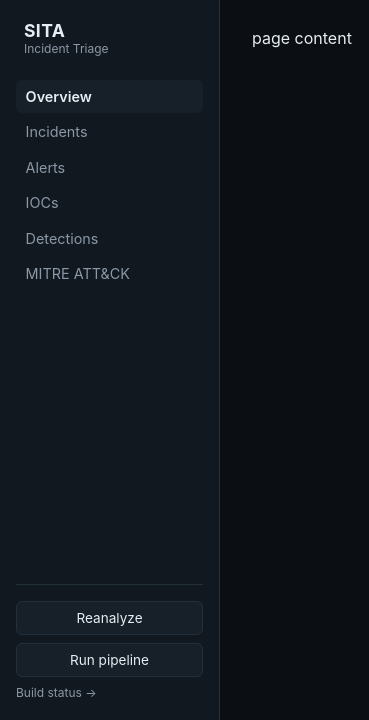
it: Layout — admin-only action buttons › shows the job's error message when the background job fails
What coordinates should you click on to do the following:
click the button "Reanalyze"
I would click on:
 (110, 618)
Its box is left=16, top=601, right=203, bottom=635.
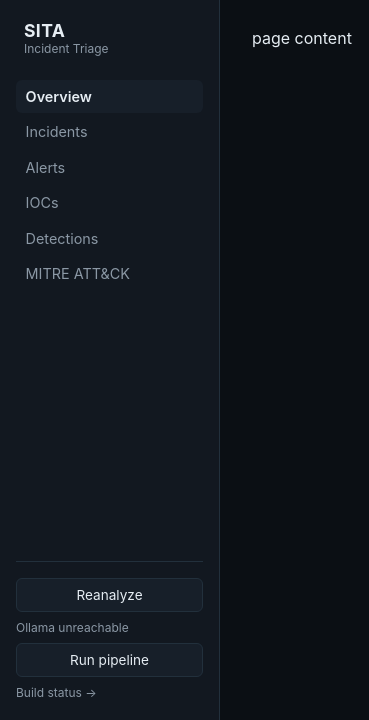
Now the text "Ollama unreachable" is shown, box left=16, top=620, right=129, bottom=635
